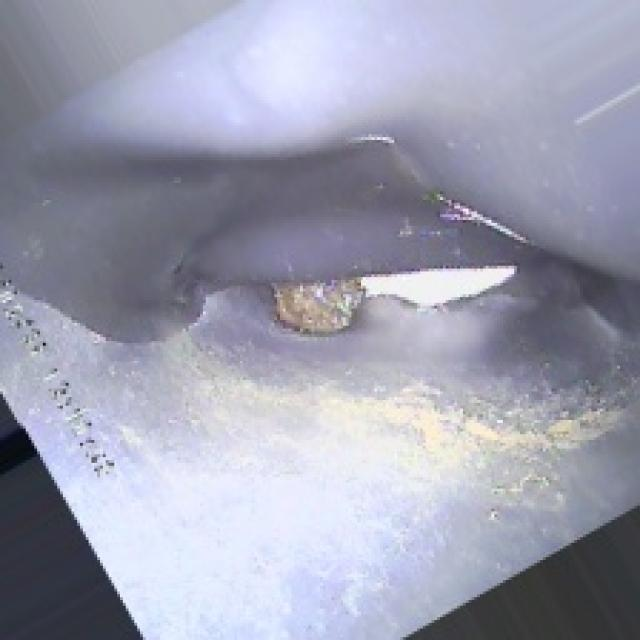shape_deformation: (63, 80, 606, 411)
